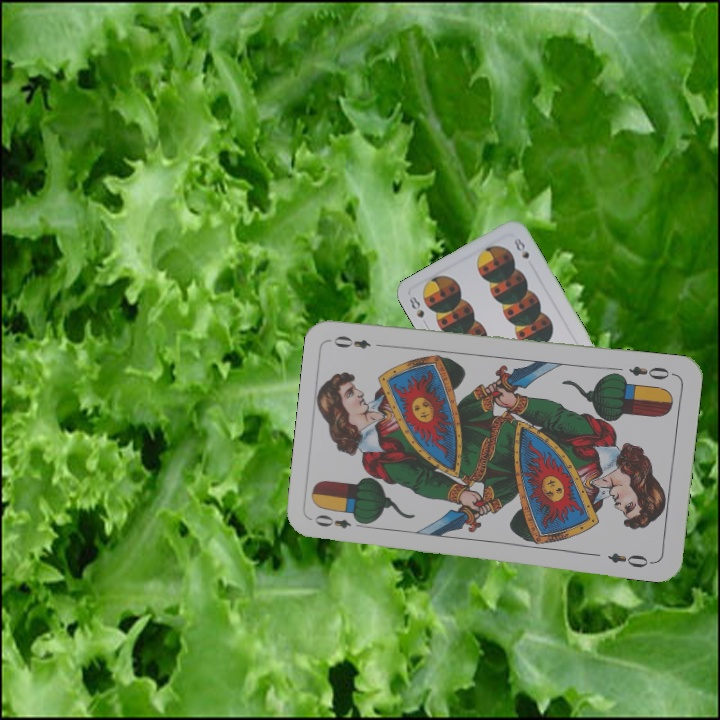EO: (311, 510, 369, 531), (625, 361, 677, 382)
S8: (405, 292, 431, 330)
